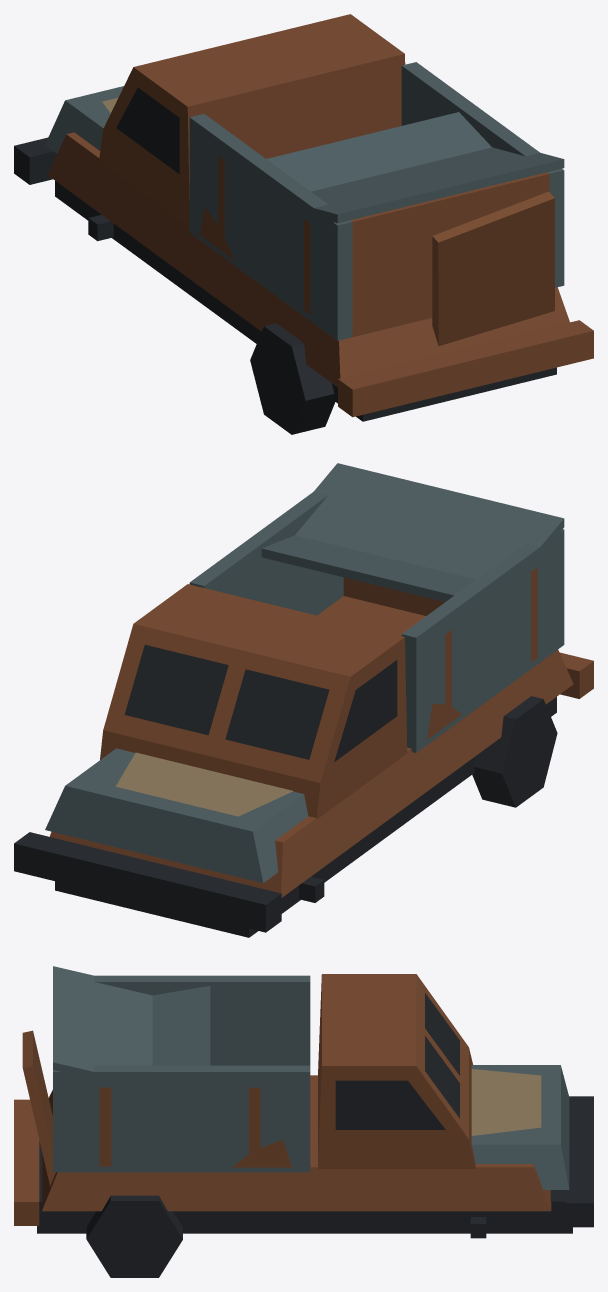
The model's file is SM_Wreck_Truck.fbx.
The picture shows the model from 3 angles, top to bottom: view 1: azimuth 30°, elevation 25°; view 2: azimuth 150°, elevation 25°; view 3: azimuth 270°, elevation 25°; orthographic projection. The views are drawn at different scales.
Parts seen in each view (by area): view 1: SM_Wreck_Truck; view 2: SM_Wreck_Truck; view 3: SM_Wreck_Truck.
Boxes of the visible parts, left/top/right/bottom form: SM_Wreck_Truck: left=14, top=14, right=593, bottom=434; SM_Wreck_Truck: left=14, top=463, right=593, bottom=937; SM_Wreck_Truck: left=14, top=966, right=593, bottom=1277.
Size of the model in its own units: 2.4 by 2.2 by 5.5.
